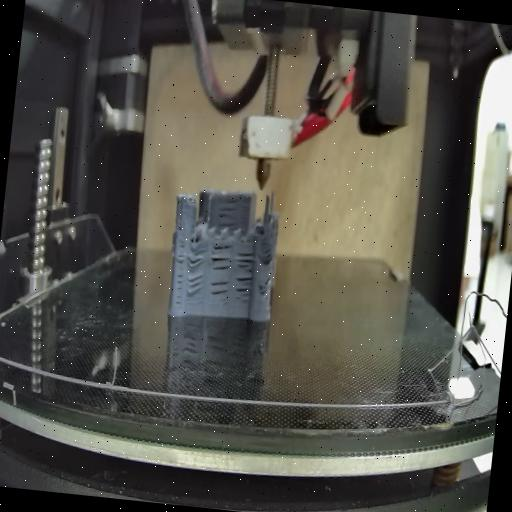cracks: (212, 192, 241, 230), (170, 246, 188, 306), (210, 244, 234, 272), (207, 281, 232, 306), (234, 274, 253, 304), (186, 270, 205, 296), (187, 247, 207, 271), (236, 252, 256, 272), (260, 248, 274, 263), (176, 218, 184, 234), (264, 276, 272, 288)
